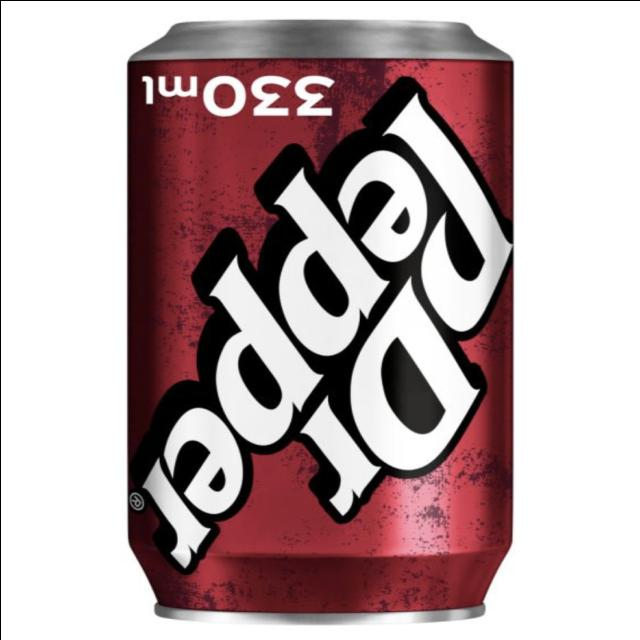can: (87, 7, 560, 634)
